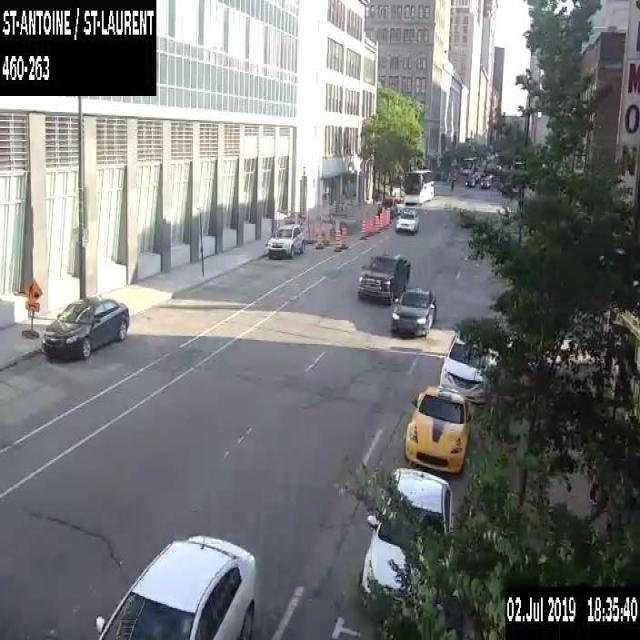bus: (404, 168, 434, 202), (462, 155, 479, 174)
construction: (21, 276, 42, 338), (275, 208, 311, 243), (333, 226, 341, 251), (340, 226, 348, 248), (314, 226, 322, 248), (358, 218, 366, 238), (322, 226, 330, 245), (374, 214, 380, 232), (365, 216, 370, 236), (369, 215, 374, 235), (379, 212, 384, 228), (384, 211, 389, 225)
pedestrian: (450, 178, 453, 190)
vehicle: (94, 533, 256, 639), (358, 465, 453, 617), (404, 384, 472, 473), (41, 294, 128, 361), (439, 330, 489, 404), (357, 253, 409, 302), (391, 286, 435, 336), (267, 223, 305, 258), (395, 208, 419, 233), (376, 196, 396, 216), (394, 196, 405, 213), (464, 175, 475, 186), (480, 176, 490, 188), (472, 171, 481, 182)
